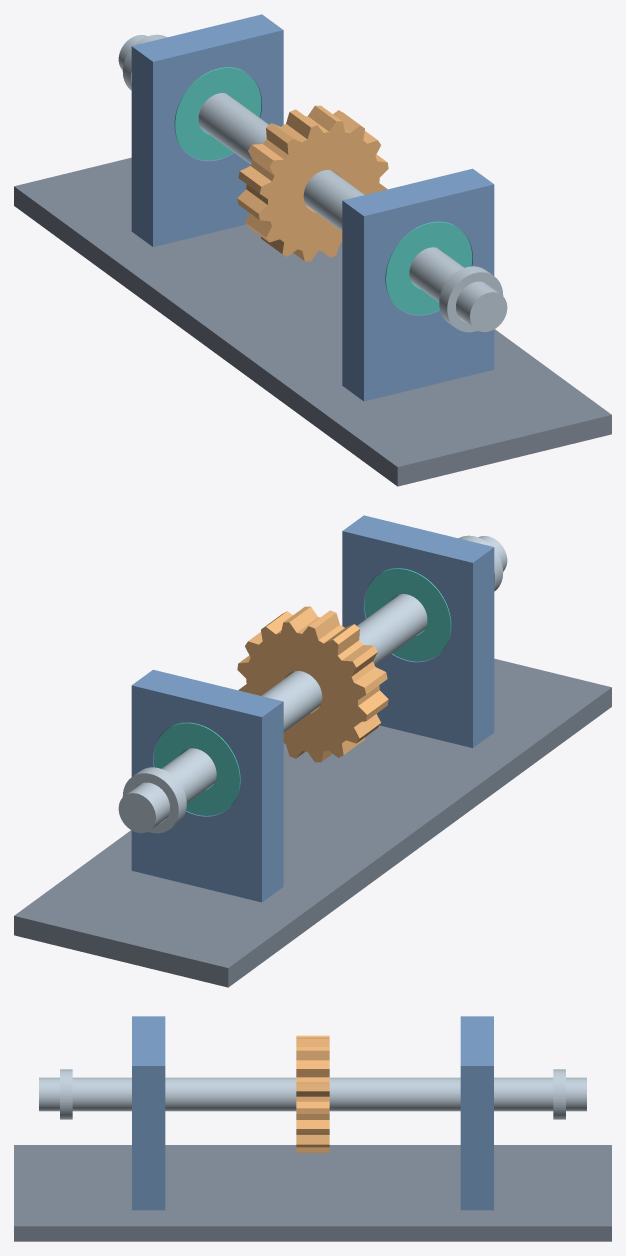
The model's file is assembly.glb.
The picture shows the model from 3 angles, top to bottom: view 1: azimuth 30°, elevation 25°; view 2: azimuth 150°, elevation 25°; view 3: azimuth 270°, elevation 25°; orthographic projection. The views are drawn at different scales.
Visible parts, largest first — view 1: base, rear_housing, front_housing, gear, shaft, front_bearing, rear_bearing, rear_retainer; view 2: base, front_housing, rear_housing, gear, shaft, rear_bearing, front_bearing, front_retainer; view 3: base, shaft, front_housing, rear_housing, gear, front_retainer, rear_retainer.
Part boxes in pixels (<box>): base: <box>14,157,611,486</box>; rear_housing: <box>342,168,494,401</box>; front_housing: <box>131,14,283,246</box>; gear: <box>237,105,388,261</box>; shaft: <box>118,35,507,332</box>; front_bearing: <box>174,67,261,160</box>; rear_bearing: <box>385,221,472,314</box>; rear_retainer: <box>439,266,503,332</box>; base: <box>14,658,611,987</box>; front_housing: <box>131,669,283,902</box>; rear_housing: <box>342,515,494,747</box>; gear: <box>237,606,388,762</box>; shaft: <box>118,536,507,833</box>; rear_bearing: <box>364,568,451,661</box>; front_bearing: <box>153,722,240,815</box>; front_retainer: <box>122,767,186,833</box>; base: <box>14,1145,611,1241</box>; shaft: <box>39,1077,586,1111</box>; front_housing: <box>460,1016,493,1210</box>; rear_housing: <box>132,1016,165,1210</box>; gear: <box>296,1035,329,1152</box>; front_retainer: <box>553,1069,565,1119</box>; rear_retainer: <box>60,1069,72,1119</box>.
Bounding box in the file's own units: 0.0416 × 0.0379 × 0.1288.
